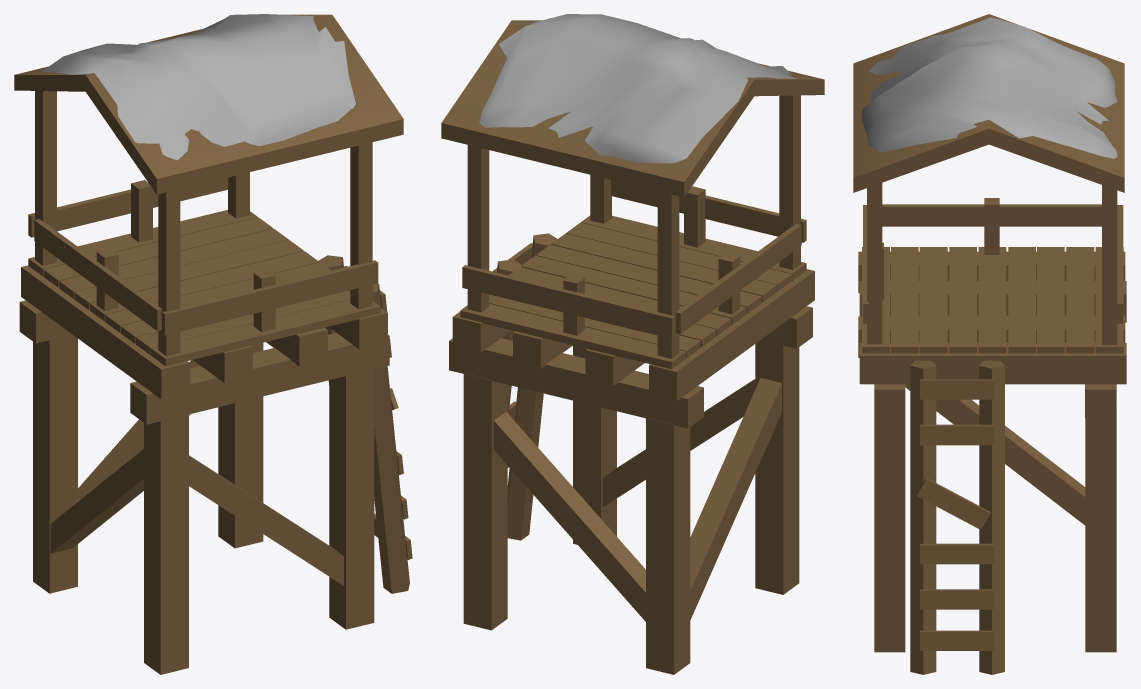
The model's file is tour.fbx.
The picture shows the model from 3 angles, left to right: view 1: azimuth 30°, elevation 25°; view 2: azimuth 150°, elevation 25°; view 3: azimuth 270°, elevation 25°; orthographic projection. The views are drawn at different scales.
Visible parts, largest first — view 1: tour_geo, neige_geo; view 2: tour_geo, neige_geo; view 3: tour_geo, neige_geo.
Part boxes in pixels (x1,y1,x2,y2): tour_geo: (14,14,412,674); neige_geo: (41,14,355,160); tour_geo: (441,20,824,674); neige_geo: (479,14,796,163); tour_geo: (853,14,1126,674); neige_geo: (862,17,1117,158).
Size of the model in its own units: 5.55 by 10.38 by 4.75.
